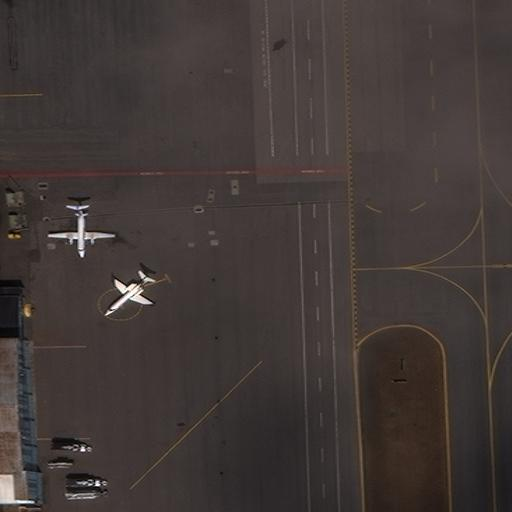Medium Civil Transport: (46, 205, 115, 257)
Small Civil Transport: (104, 275, 153, 316)
